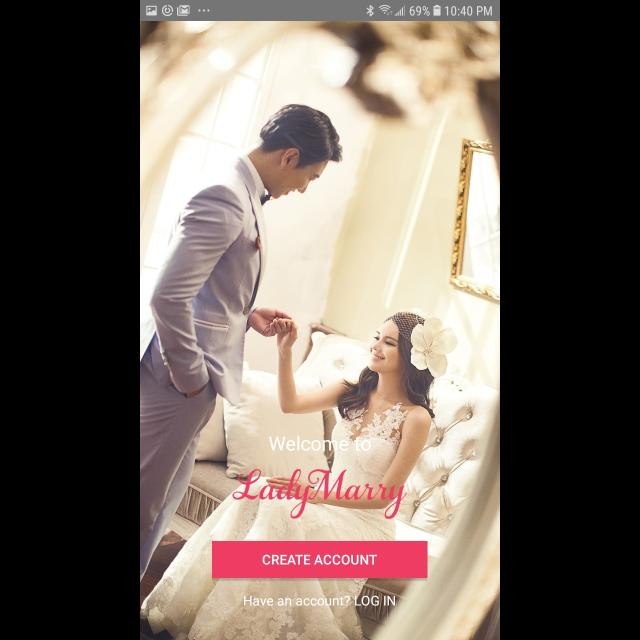backgroundimage: (140, 22, 500, 640)
image: (232, 469, 408, 519)
text: (269, 436, 371, 452), (244, 596, 396, 606)
textbutton: (212, 542, 428, 578)
uppertaskbar: (140, 1, 500, 22)
